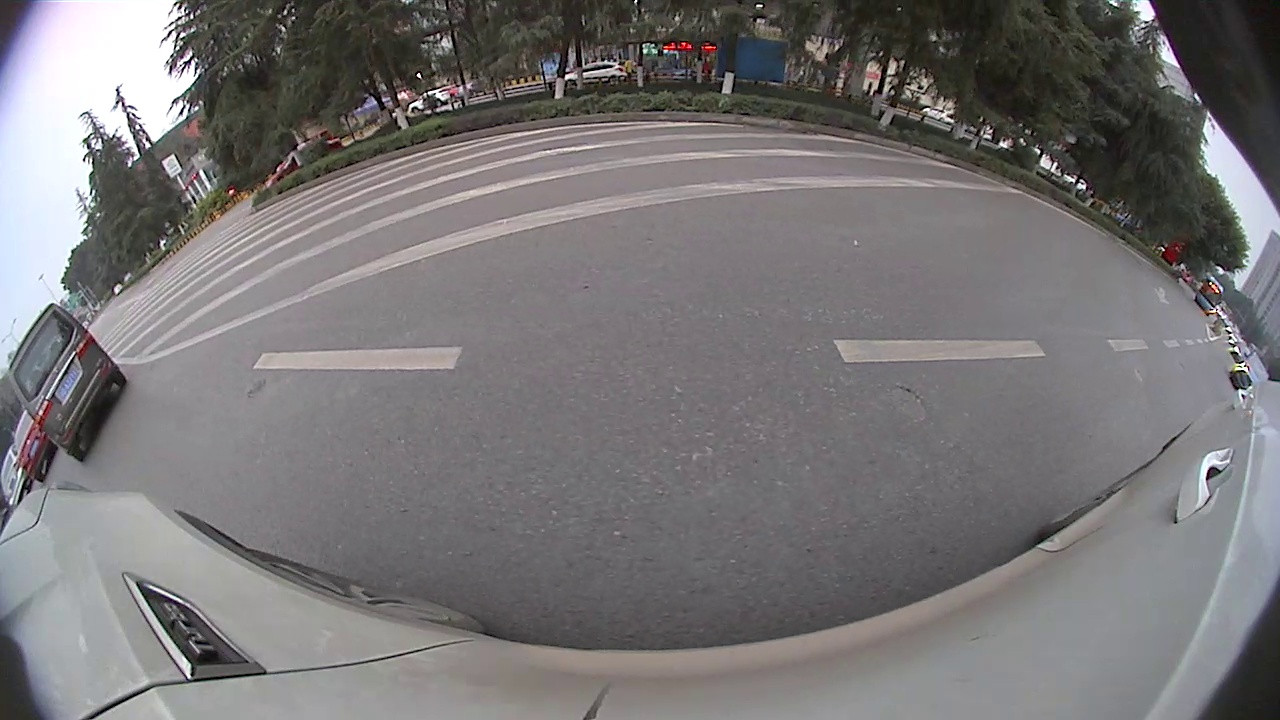bus: (1192, 271, 1228, 318)
car: (5, 298, 129, 466), (9, 407, 61, 486), (1225, 347, 1274, 396)
